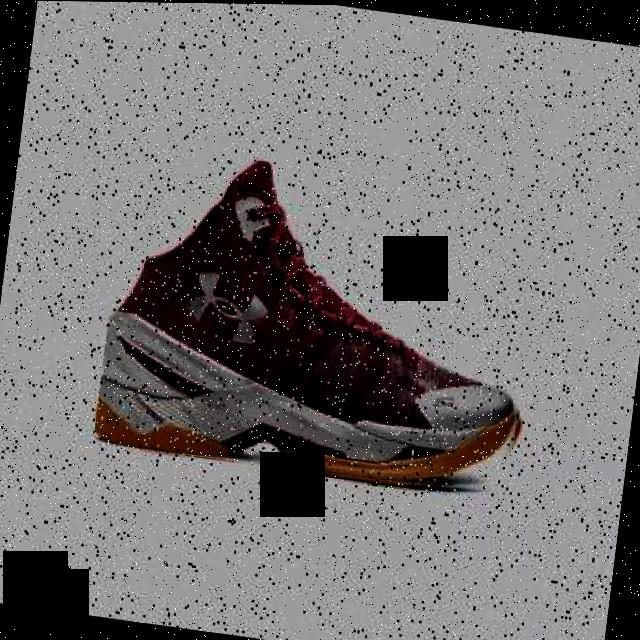shoe: (92, 142, 550, 500)
